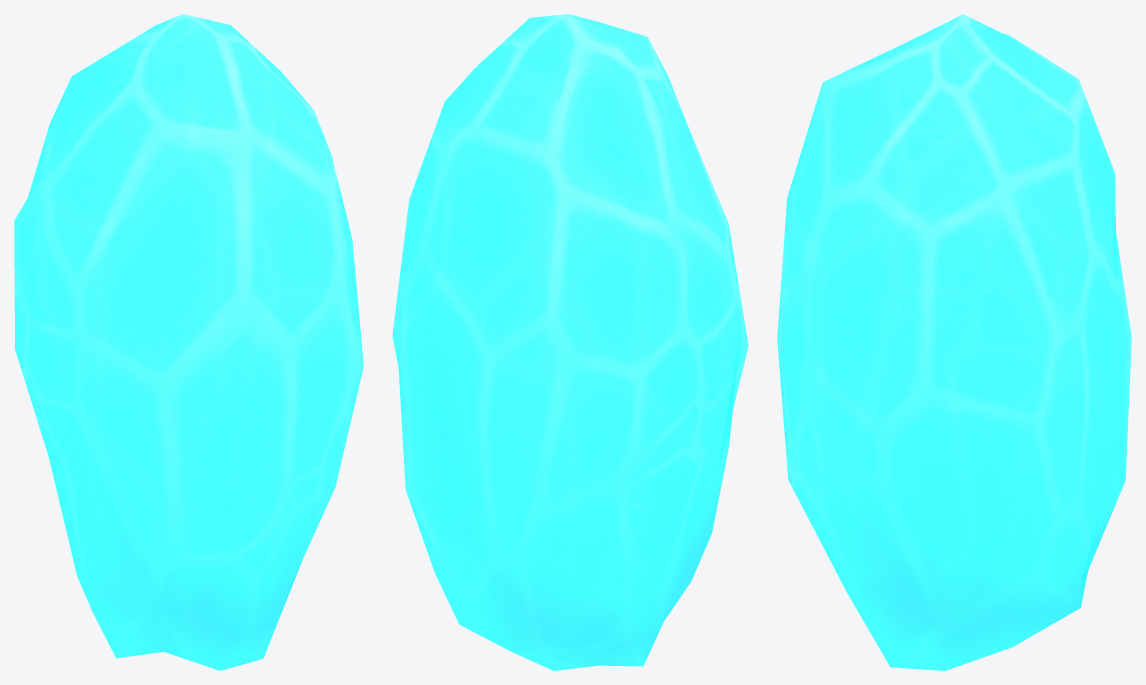
Rendered from glowing_gem.glb.
The picture shows the model from 3 angles, left to right: view 1: azimuth 30°, elevation 25°; view 2: azimuth 150°, elevation 25°; view 3: azimuth 270°, elevation 25°; orthographic projection. The views are drawn at different scales.
Visible parts, largest first — view 1: defaultMaterial; view 2: defaultMaterial; view 3: defaultMaterial.
Boxes of the visible parts, x1,y1,x2,y2 form: defaultMaterial: [14, 14, 363, 670]; defaultMaterial: [392, 14, 748, 670]; defaultMaterial: [777, 14, 1131, 670].
Bounding box in the file's own units: 0.1533 × 0.3159 × 0.1593.
1 material, 1 textured.
